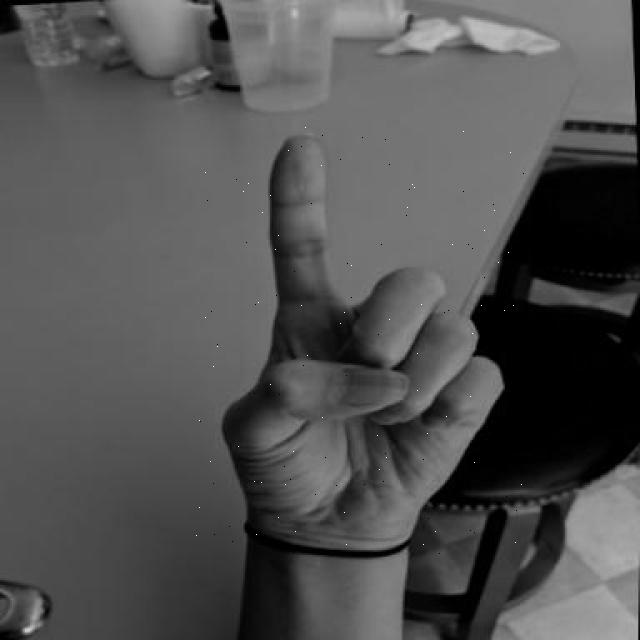D: (194, 115, 524, 555)
